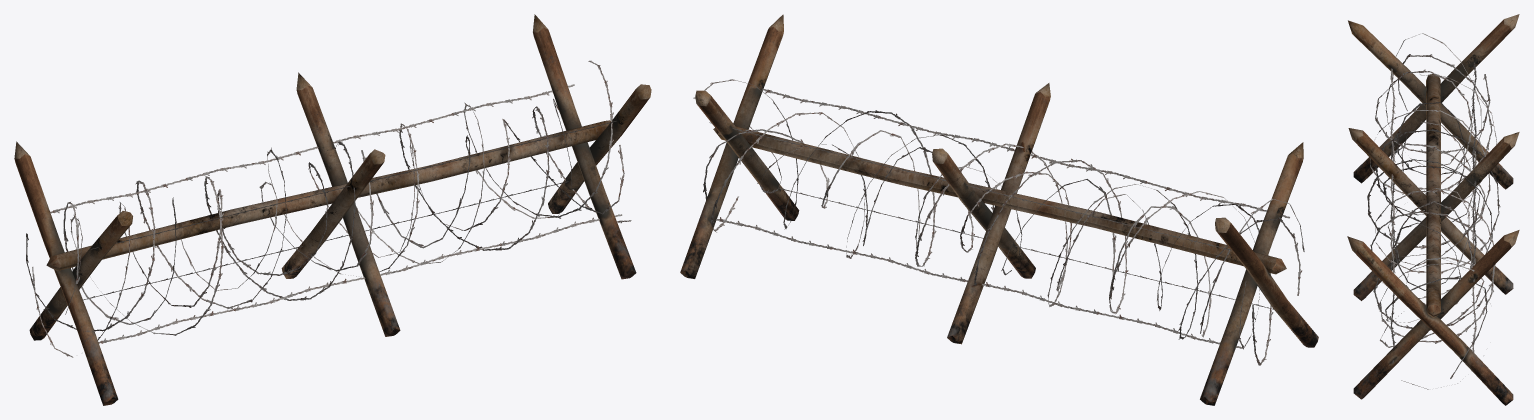
Rendered from barrier___wooden__barbed__wire_protection_13_mb.glb.
3 renders of one model, left to right at view 1: azimuth 30°, elevation 25°; view 2: azimuth 150°, elevation 25°; view 3: azimuth 270°, elevation 25°, orthographic. The views are drawn at different scales.
Visible parts, largest first — view 1: object_0_object_0_0; view 2: object_0_object_0_0; view 3: object_0_object_0_0.
Boxes of the visible parts, x1,y1,x2,y2 form: object_0_object_0_0: [14, 14, 651, 405]; object_0_object_0_0: [680, 14, 1318, 405]; object_0_object_0_0: [1347, 14, 1519, 405].
Bounding box in the file's own units: 5.16 × 1.69 × 1.57.
Materials: 1 (1 with a texture image).
